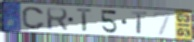5: (100, 9, 118, 34)
7: (152, 11, 175, 37)
C: (21, 6, 47, 31)
R: (45, 7, 70, 32)
T: (76, 7, 95, 34), (130, 11, 149, 36)
